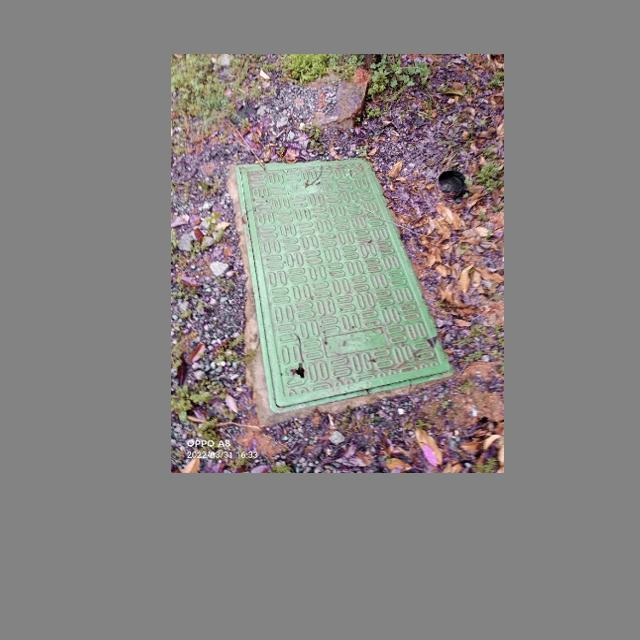good: (234, 156, 454, 412)
